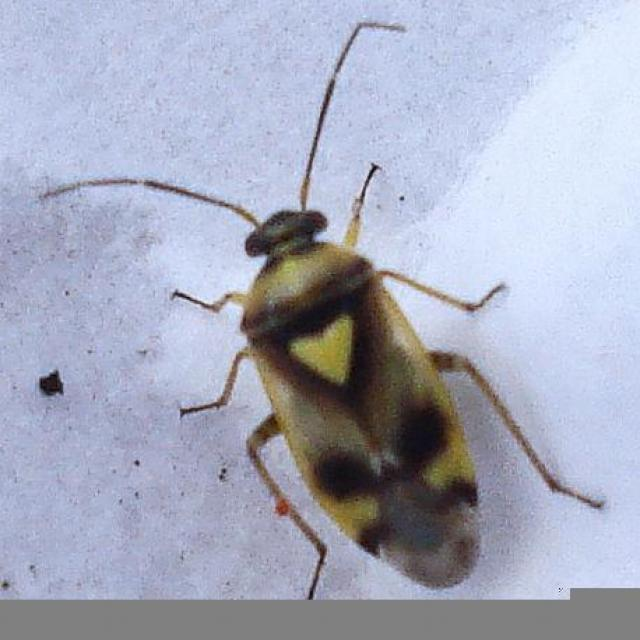Miridae-Adult-: (44, 16, 582, 592)
